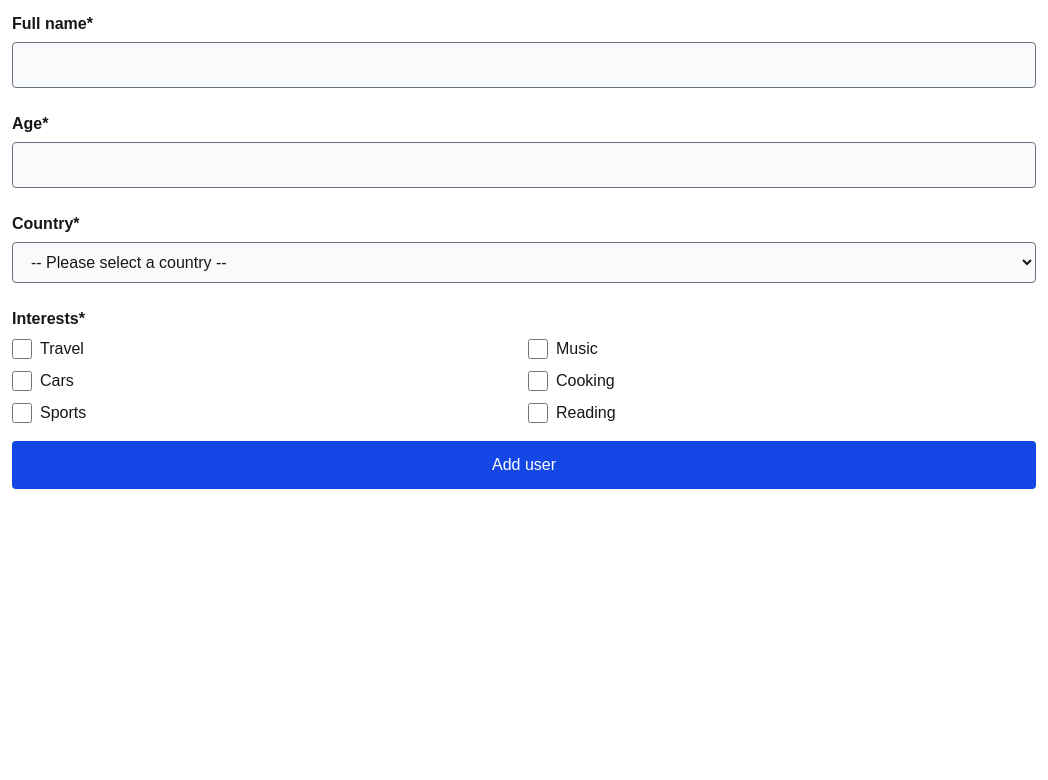
Test: AddUserForm Component › shows validation error when age is below 18
The image size is (1048, 780).
In the number field labelled "Age*": coordinates (524, 165) [12,142,1036,188], type "15"
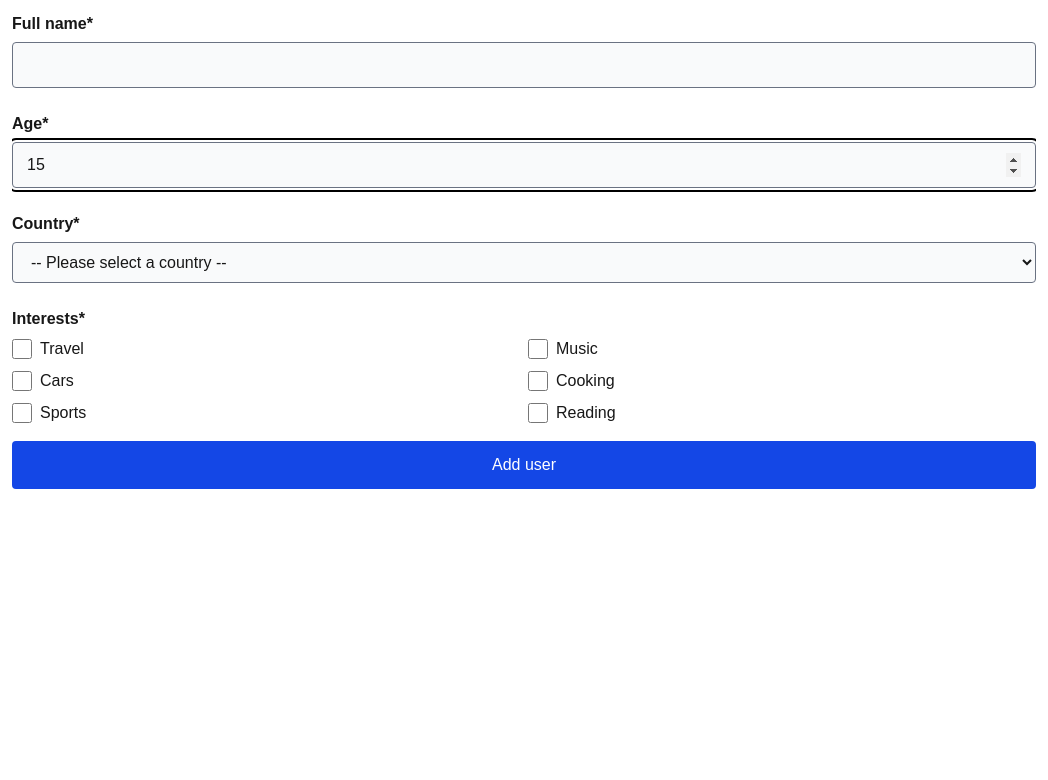
Click the button "Add user": coordinates (524, 465) [12,441,1036,489]
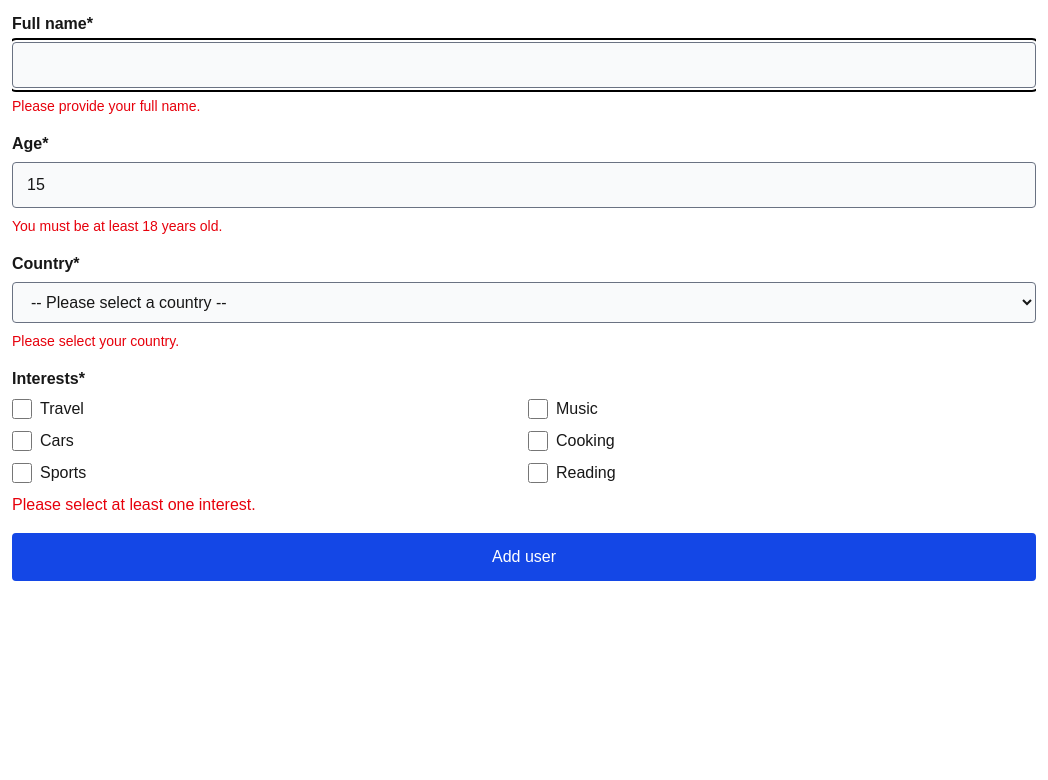
Result: the text "You must be at least 18 years old." is shown at [12,218,222,234]
